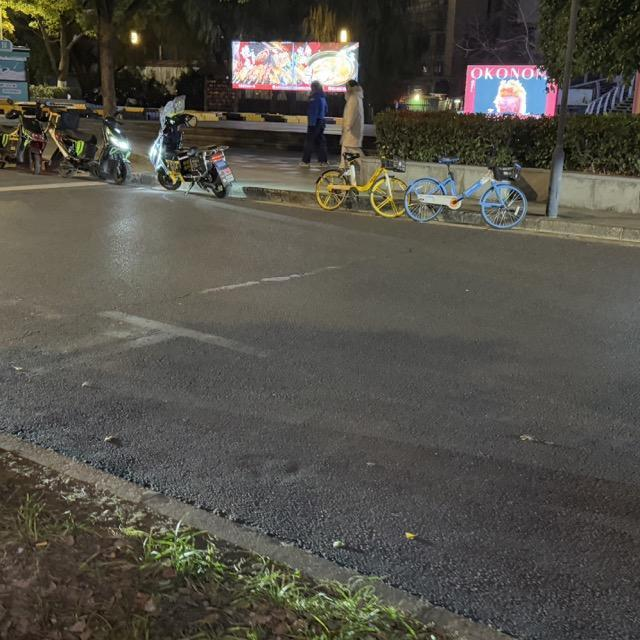curb: (0, 433, 510, 639), (510, 215, 639, 246), (245, 187, 312, 208), (434, 209, 484, 229)
